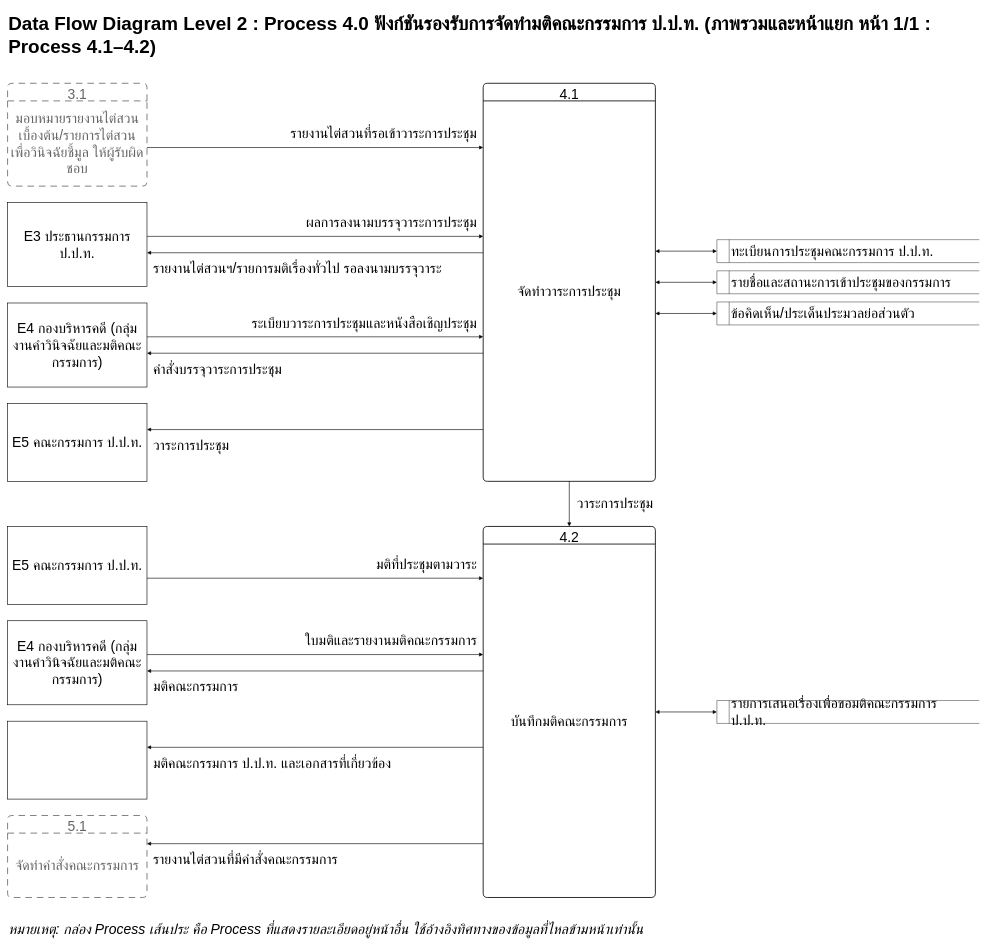
The diagram is 986 pixels wide and 947 high, and some of its shapes have lost their labels. Each missing label, with the box of its shape:
D11: (716, 700, 979, 723)
D15: (716, 270, 979, 294)
D16: (716, 302, 979, 325)
D5: (716, 239, 979, 263)
E8 หน่วยงานต้นเรื่อง/เจ้าของเรื่อง: (7, 721, 147, 799)
